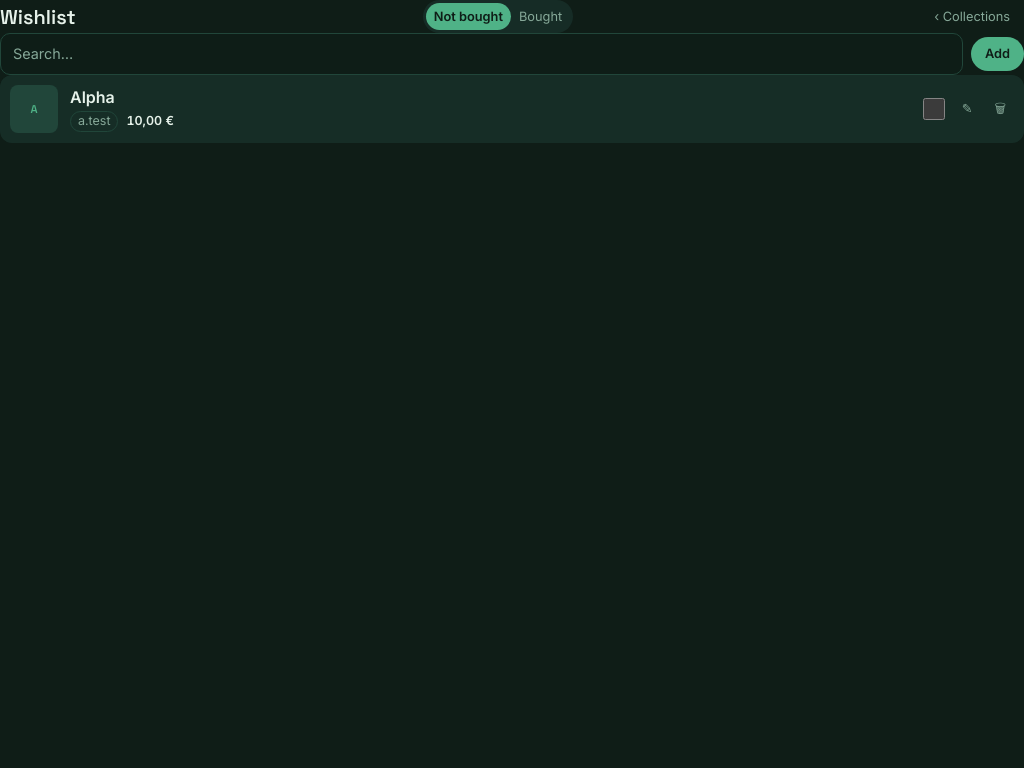
Test: Close dismisses the modal without saving
Click the button named "Edit": (967, 109) [954,95,980,122]
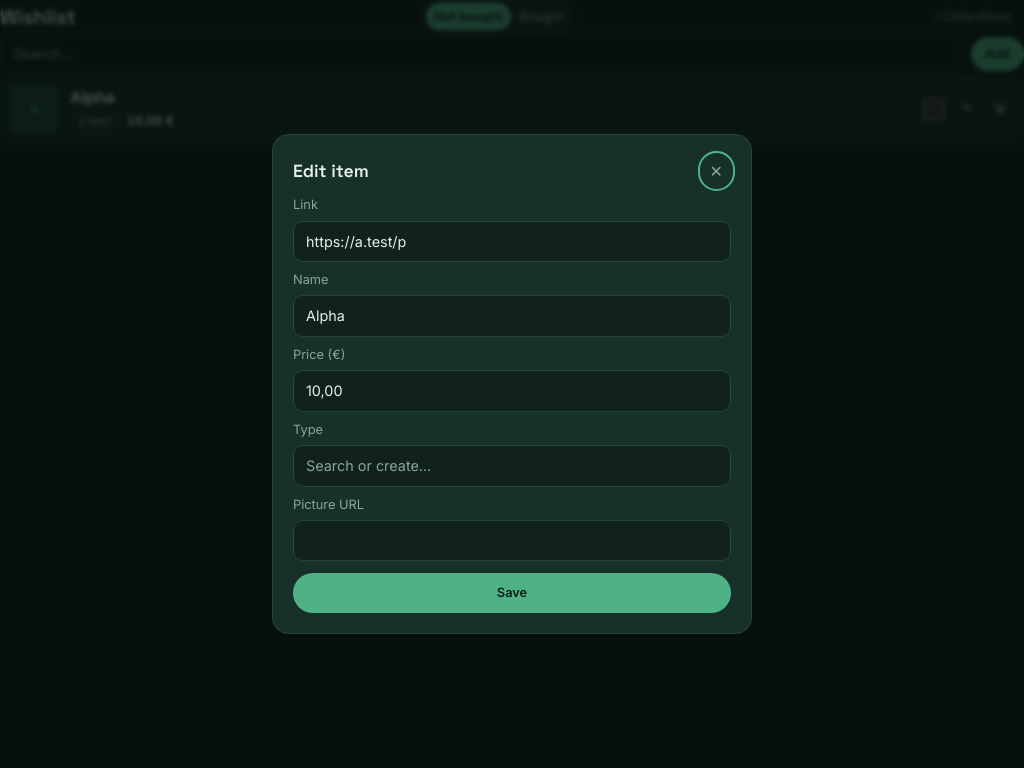
Click the button named "Close": (716, 172) [702,156,731,188]
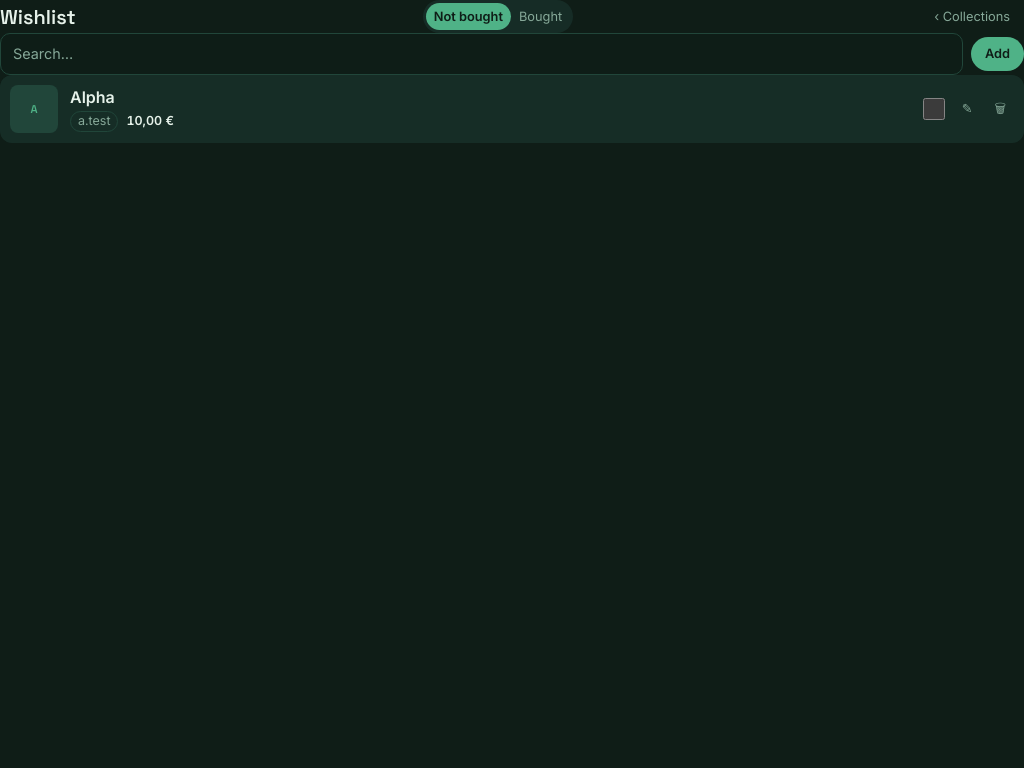
Result: the dialog is gone
